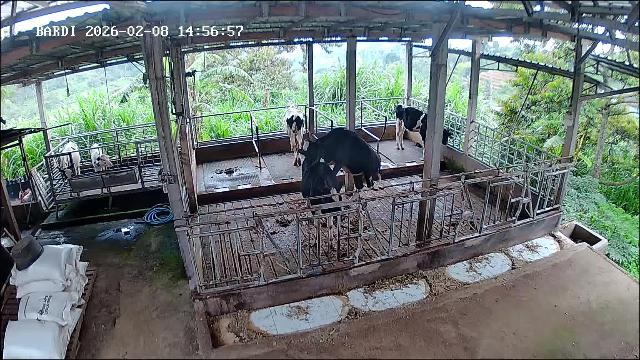mounting: (300, 127, 381, 214)
